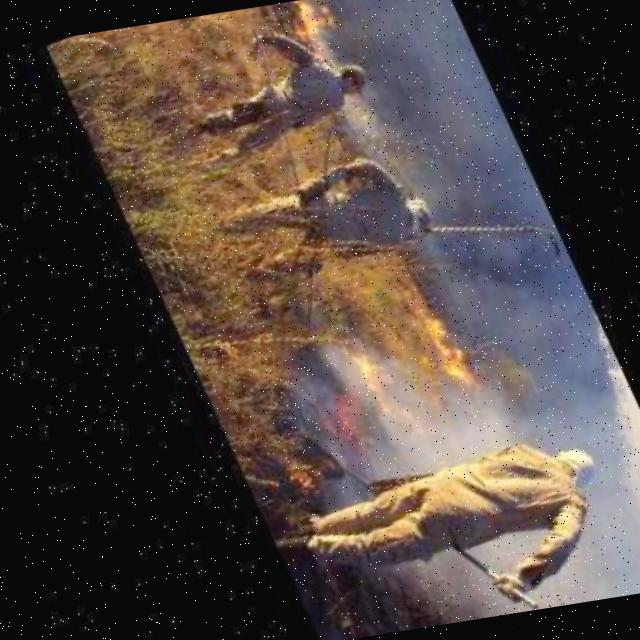fire: (333, 315, 431, 473), (399, 298, 487, 406), (310, 381, 373, 458), (284, 442, 342, 502), (270, 0, 344, 46), (346, 87, 371, 120)
